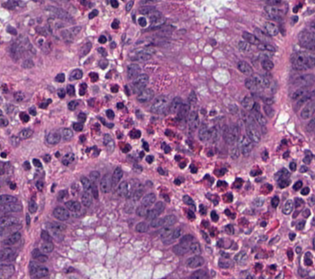nucleus: (290, 52, 313, 70), (252, 103, 266, 131), (294, 90, 313, 109), (150, 95, 168, 113), (131, 47, 153, 61), (131, 74, 148, 92), (298, 30, 313, 50), (245, 122, 260, 142), (237, 135, 252, 155), (223, 125, 238, 144), (163, 228, 181, 243), (116, 181, 132, 197), (47, 222, 65, 236), (300, 100, 313, 119), (293, 74, 313, 86), (187, 111, 199, 131), (242, 32, 260, 45), (291, 86, 307, 100), (137, 88, 153, 102), (167, 97, 181, 113), (53, 206, 69, 220), (130, 184, 143, 201), (100, 173, 111, 193), (177, 102, 189, 120), (237, 61, 252, 75), (111, 167, 122, 186), (186, 255, 203, 267), (31, 265, 48, 277), (127, 63, 140, 78), (65, 200, 80, 213), (173, 242, 188, 255), (46, 131, 60, 144), (141, 193, 155, 206), (198, 124, 208, 141), (209, 125, 219, 142), (103, 134, 113, 151), (245, 77, 258, 90), (241, 96, 254, 109), (160, 225, 173, 238), (145, 208, 159, 220), (39, 241, 53, 253), (254, 28, 269, 39), (282, 199, 293, 214), (81, 191, 91, 207), (62, 152, 74, 165), (188, 240, 200, 253), (235, 251, 247, 264), (80, 42, 91, 56), (257, 42, 274, 51), (238, 40, 250, 52), (60, 128, 72, 140), (60, 30, 73, 41), (183, 195, 194, 208), (263, 103, 273, 117), (81, 177, 91, 191), (190, 270, 207, 278), (261, 59, 273, 70), (275, 168, 287, 179), (136, 204, 147, 216), (135, 221, 147, 232), (99, 117, 112, 127), (162, 215, 175, 225), (34, 252, 47, 262), (218, 258, 231, 268), (90, 182, 98, 198), (230, 144, 239, 158), (70, 69, 82, 79), (188, 91, 196, 106), (154, 201, 164, 213), (40, 230, 51, 240), (28, 200, 37, 212), (150, 218, 162, 227), (180, 234, 192, 243), (68, 100, 78, 110), (89, 171, 99, 181), (57, 190, 67, 200), (39, 99, 50, 108), (129, 129, 140, 138), (278, 178, 289, 187), (307, 117, 314, 131), (29, 262, 37, 274), (36, 36, 45, 46), (120, 143, 130, 152), (233, 178, 242, 188), (261, 184, 271, 193), (223, 192, 232, 202), (201, 231, 209, 242), (79, 83, 86, 95), (304, 253, 311, 265), (97, 47, 106, 56), (89, 72, 98, 81), (55, 73, 64, 82), (228, 104, 237, 113), (32, 158, 41, 167), (293, 181, 302, 190), (66, 85, 74, 95), (77, 112, 85, 122), (72, 122, 82, 130), (215, 168, 226, 175), (271, 196, 278, 207), (99, 59, 107, 68), (295, 198, 303, 207), (225, 209, 234, 217), (296, 220, 304, 229), (225, 224, 233, 233), (106, 109, 113, 119), (251, 168, 261, 175), (36, 180, 43, 190), (71, 184, 77, 195), (98, 35, 106, 43), (57, 89, 64, 98), (253, 198, 262, 205), (187, 210, 194, 219), (211, 211, 217, 221), (301, 187, 309, 194), (217, 181, 226, 187), (262, 150, 267, 160), (287, 250, 292, 260), (111, 85, 118, 92), (29, 108, 36, 115), (303, 156, 310, 163), (289, 162, 295, 170), (200, 205, 205, 214), (164, 145, 170, 152), (44, 154, 50, 161), (146, 155, 152, 162), (190, 165, 196, 172), (300, 166, 307, 172), (158, 168, 165, 174), (303, 209, 309, 216), (143, 142, 148, 150), (179, 161, 185, 167), (202, 221, 208, 227), (211, 229, 217, 235), (295, 246, 300, 253), (88, 99, 93, 105), (174, 179, 180, 184), (293, 211, 298, 217), (289, 233, 294, 239), (255, 264, 261, 269), (310, 195, 313, 204), (117, 103, 122, 108), (80, 135, 84, 141), (312, 237, 314, 248), (55, 152, 59, 156), (247, 275, 252, 278), (111, 43, 115, 46)
